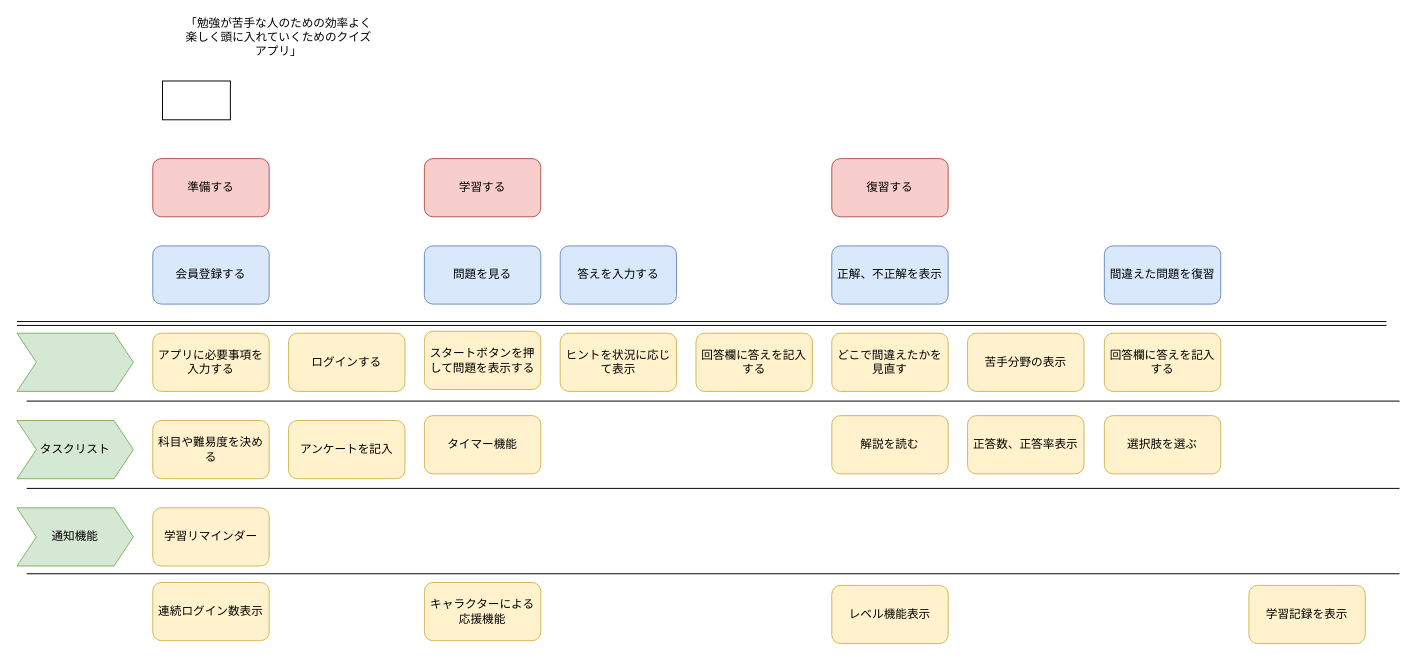
Some shapes in this 1418 by 661 pixel diagram are drawn without their labels. The centre of each missing label's shape, as x and y in pixels:
"ウォーキングスケルトン" belongs at [74,361].
"利用者" belongs at [196,100].
